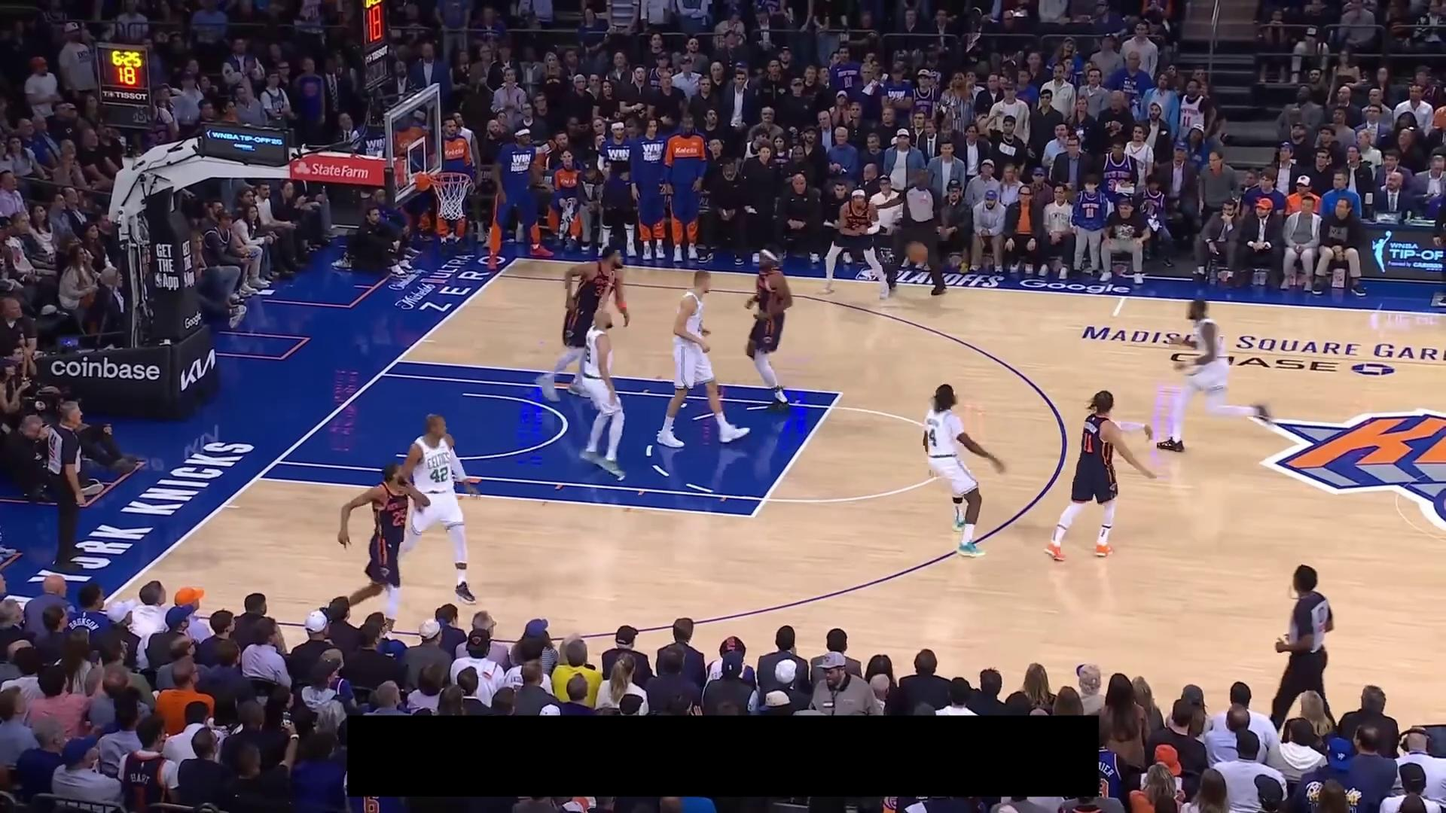ball: (907, 242, 928, 263)
number: (429, 465, 449, 484), (392, 507, 407, 527), (1083, 432, 1094, 454), (595, 282, 609, 297), (928, 427, 938, 448)
player: (1044, 388, 1161, 562), (333, 459, 435, 644), (1153, 297, 1271, 454), (655, 269, 752, 449), (394, 413, 483, 606), (919, 381, 1009, 559), (537, 242, 631, 406), (576, 310, 631, 478), (742, 248, 796, 415), (820, 186, 896, 295)
referee: (1268, 564, 1337, 727), (42, 400, 89, 573), (889, 167, 950, 296)
rim: (429, 171, 472, 187)
